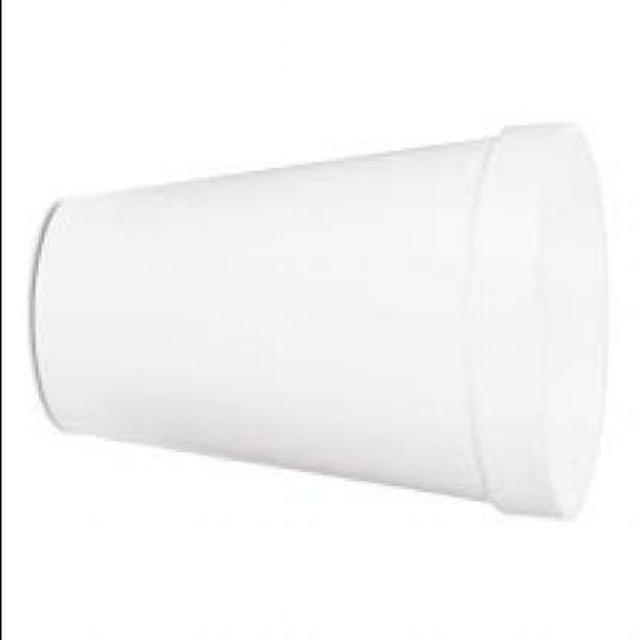PAPER: (34, 128, 612, 523)
